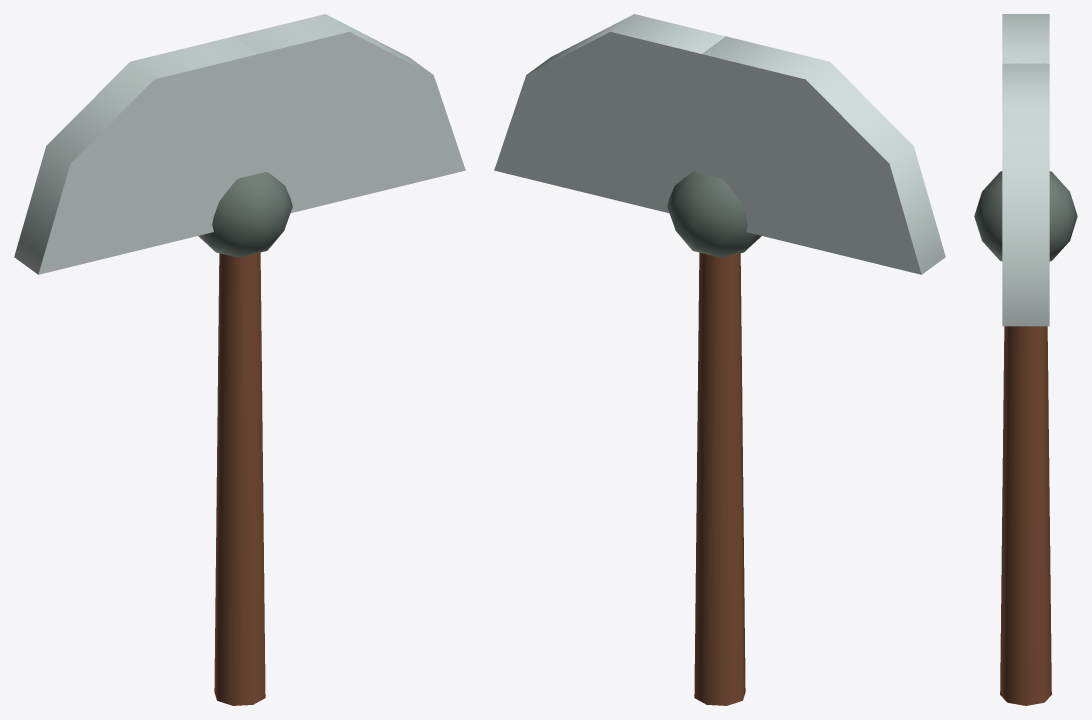
File: axe.glb
The picture shows the model from 3 angles, left to right: view 1: azimuth 30°, elevation 25°; view 2: azimuth 150°, elevation 25°; view 3: azimuth 270°, elevation 25°; orthographic projection. The views are drawn at different scales.
Visible parts, largest first — view 1: axe; view 2: axe; view 3: axe.
Part boxes in pixels (left/top/right/bottom): axe: left=14, top=14, right=465, bottom=705; axe: left=494, top=14, right=945, bottom=705; axe: left=974, top=14, right=1077, bottom=705.
Bounding box in the file's own units: 1.12 × 1.62 × 0.24.
